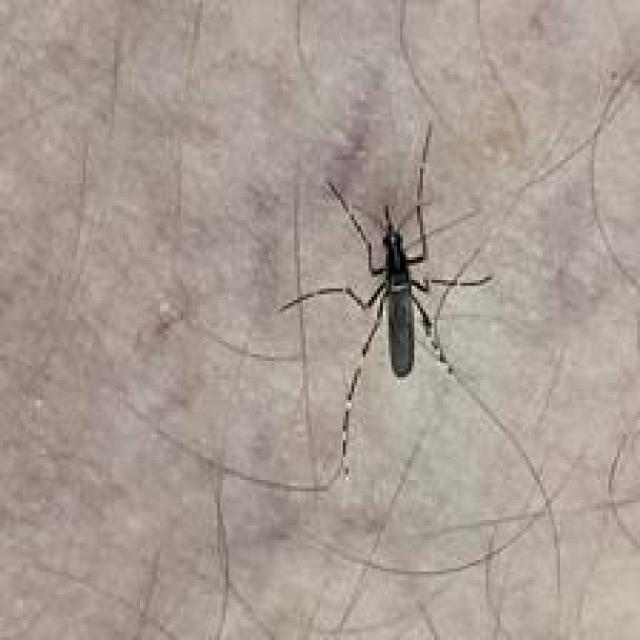Aedes albopictus: (274, 120, 494, 477)
